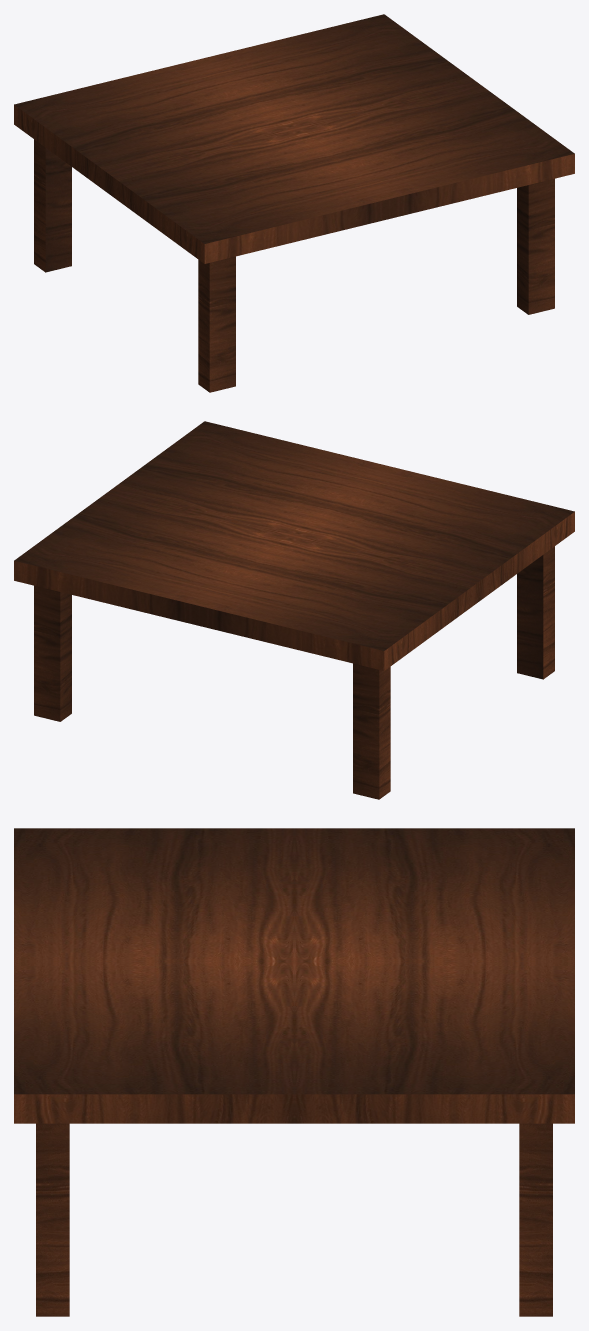
Rendered from table.fbx.
3 renders of one model, top to bottom at view 1: azimuth 30°, elevation 25°; view 2: azimuth 150°, elevation 25°; view 3: azimuth 270°, elevation 25°, orthographic. The views are drawn at different scales.
Visible parts, largest first — view 1: table; view 2: table; view 3: table.
Part boxes in pixels (<box>): table: <box>14,14,574,392</box>; table: <box>14,421,574,799</box>; table: <box>14,828,574,1316</box>.
Bounding box in the file's own units: 4026 × 1832 × 4513.
